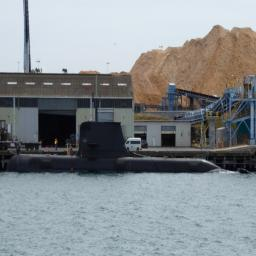submarine: (8, 125, 222, 174)
